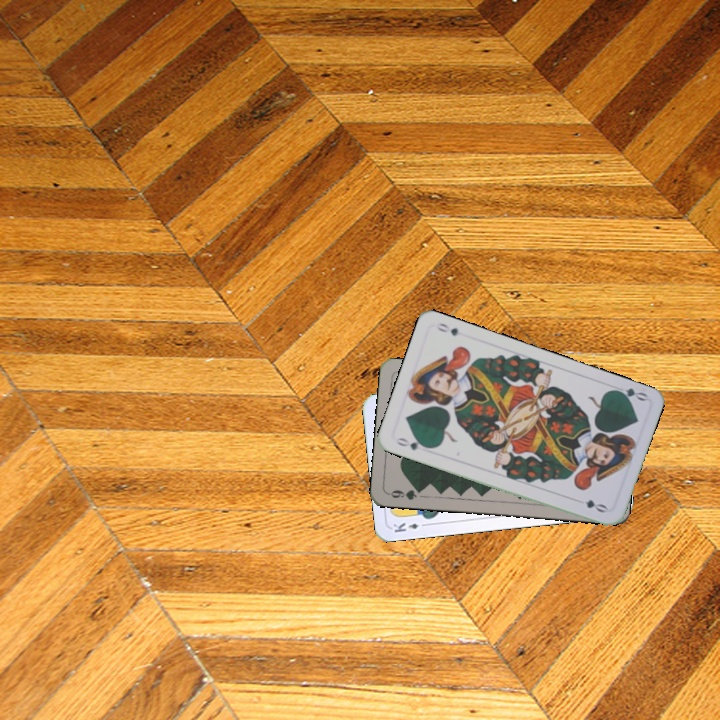EK: (389, 519, 430, 535)
G9: (385, 484, 426, 502)
GO: (609, 384, 650, 404), (392, 433, 432, 453)
